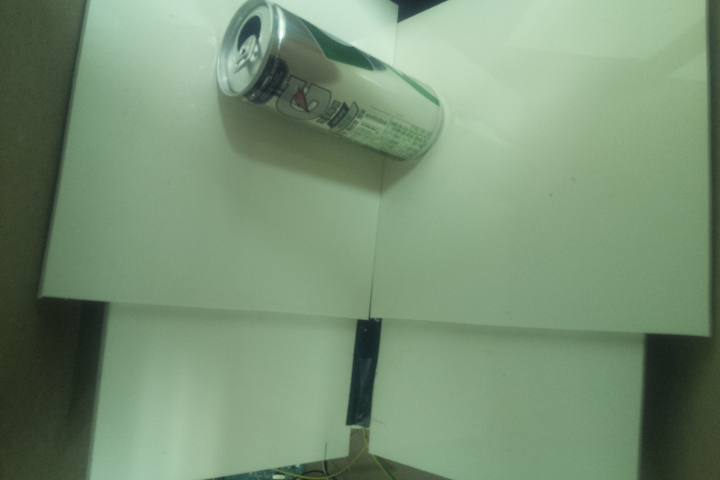can: (213, 1, 446, 163)
